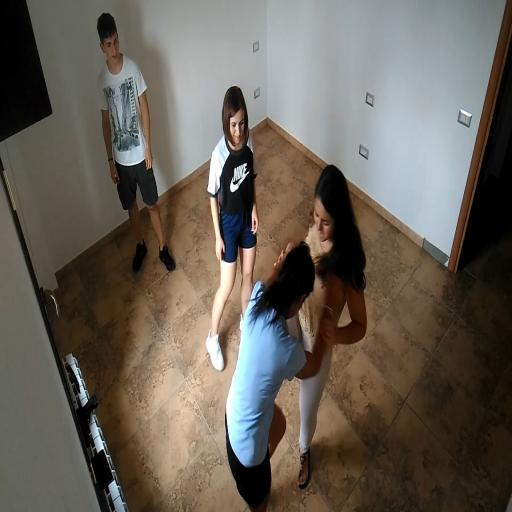violencia: (217, 156, 373, 512)
